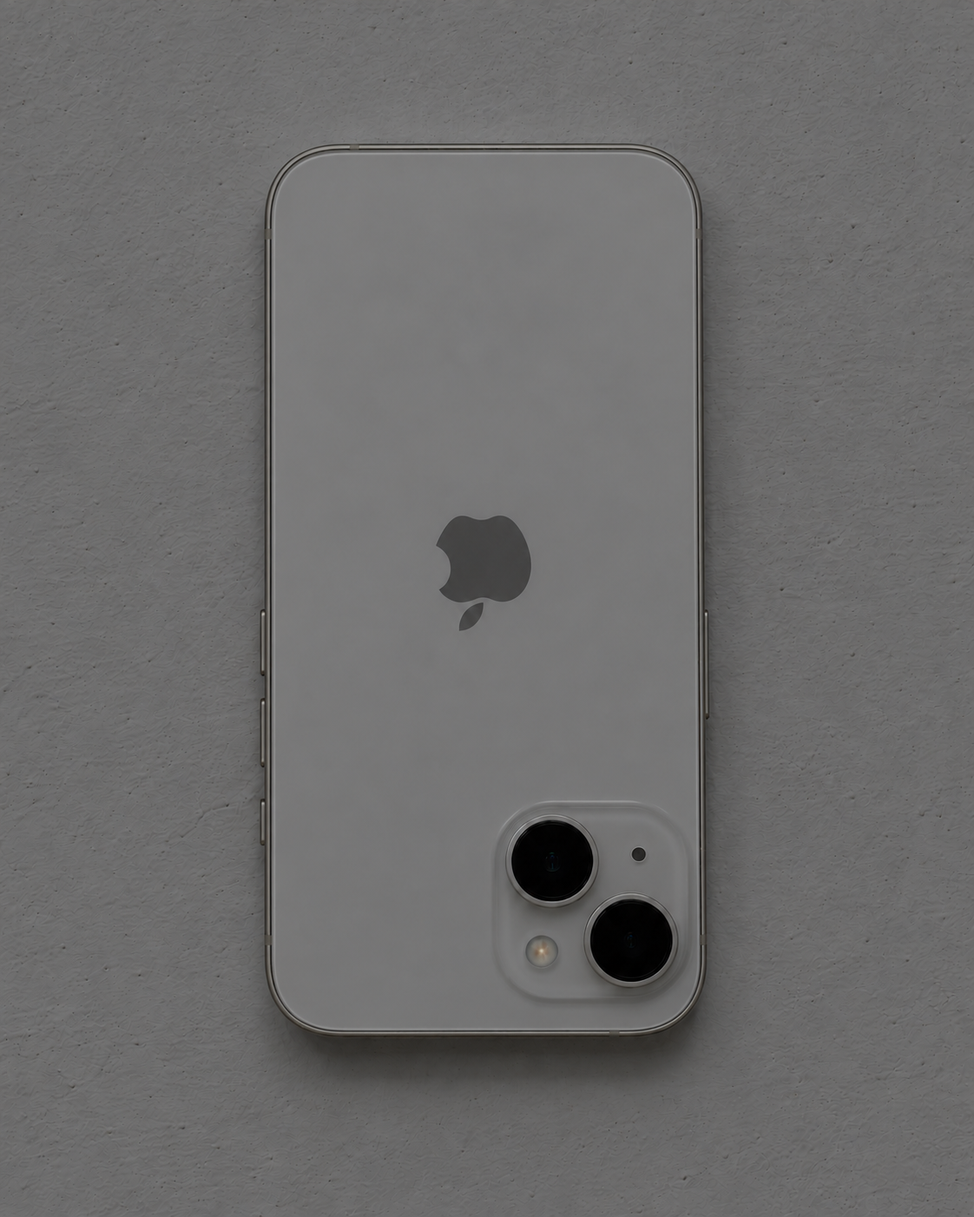iphone_14_white: (203, 88, 777, 1101), (472, 776, 707, 1025)
